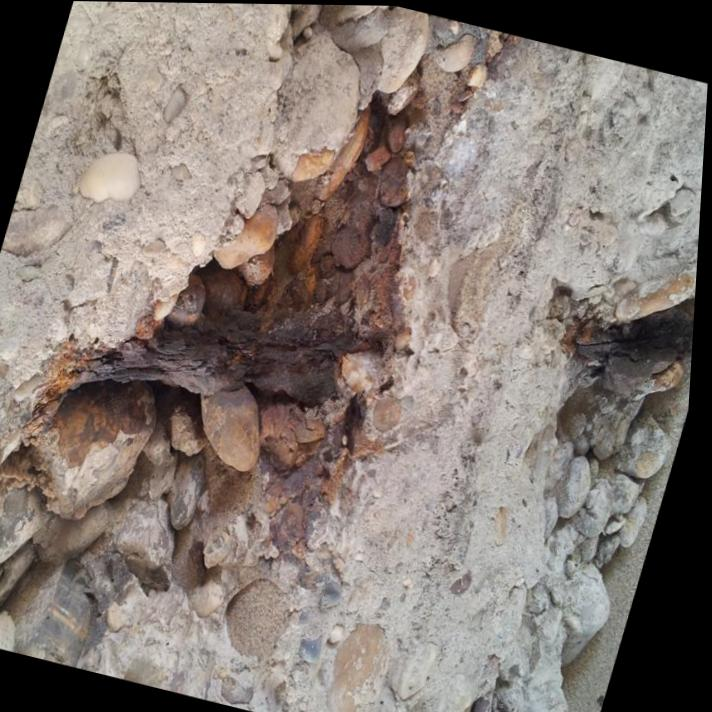damage: (0, 15, 701, 649)
